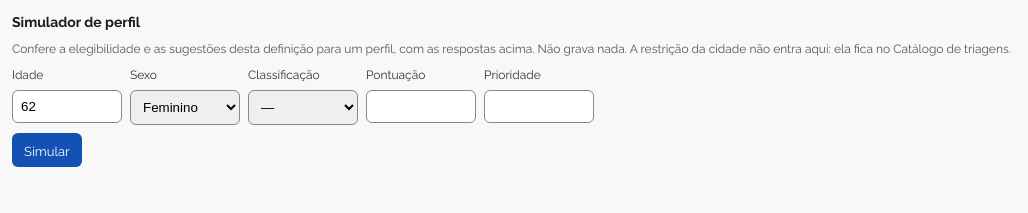
Scenario: OfferSimulator › idade fora de 0 a 130 ou pontuação quebrada trava o botão
Replace the text in the number field labelled "Idade" with "131": (67, 107) [12,90,122,123]
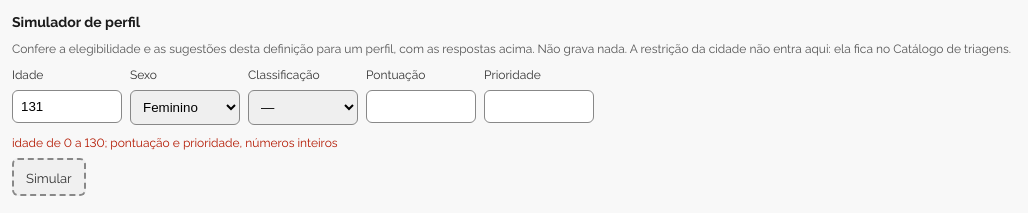
Expected: the button "Simular" is disabled, [12,158,86,196]
Expected: the text "idade de 0 a 130; pontuação e prioridade, números inteiros" is shown, [12,133,338,150]
Replace the text in the number field labelled "Idade" with "40": (67, 107) [12,90,122,123]
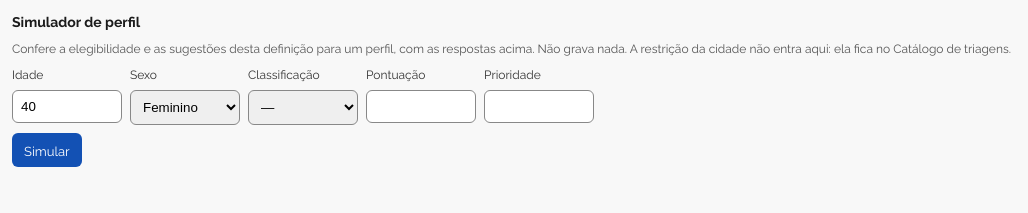
In the number field labelled "Pontuação": (421, 107) [366,90,476,123], type "1.5"
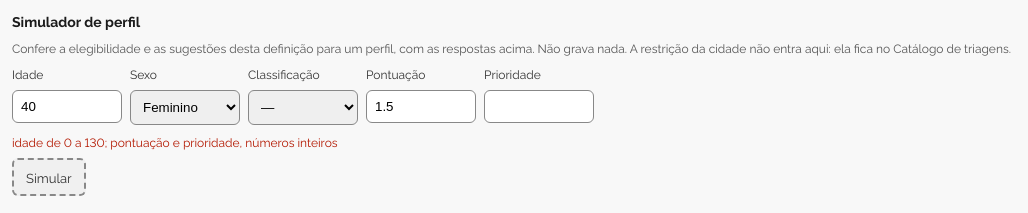
Expected: the button "Simular" is disabled, [12,158,86,196]
